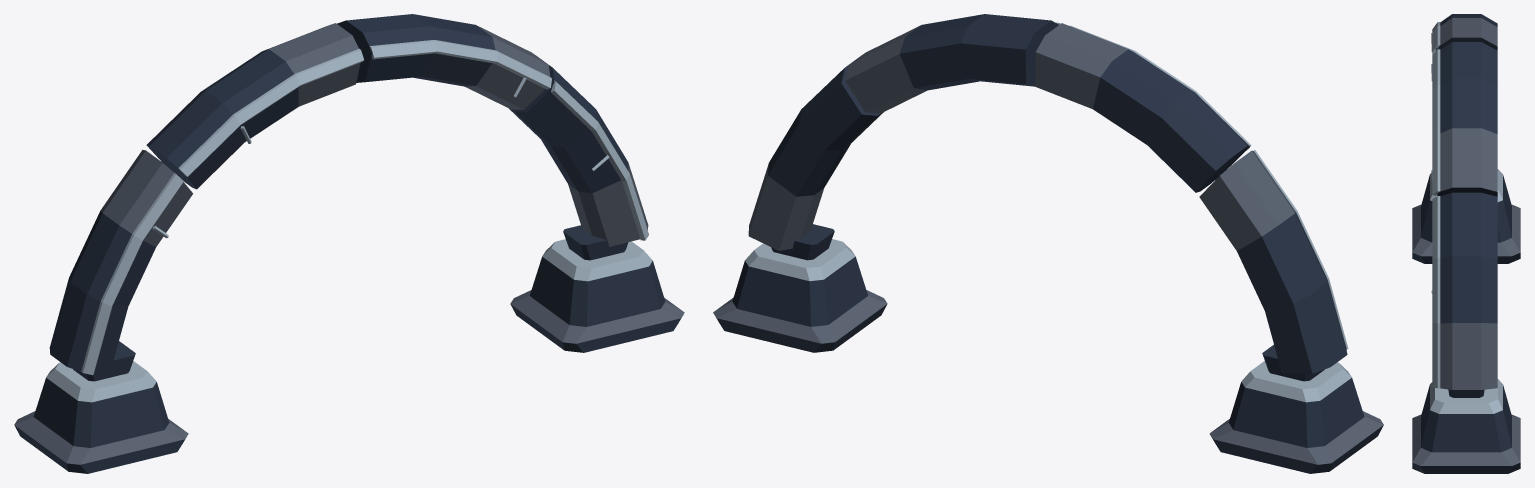
The model's file is dock-gantry.glb.
3 views of the same model, side by side, from view 1: azimuth 30°, elevation 25°; view 2: azimuth 150°, elevation 25°; view 3: azimuth 270°, elevation 25° (orthographic). The views are drawn at different scales.
Parts seen in each view (by area): view 1: dock-gantry; view 2: dock-gantry; view 3: dock-gantry.
Boxes of the visible parts, left/top/right/bottom form: dock-gantry: left=14, top=14, right=684, bottom=473; dock-gantry: left=713, top=14, right=1383, bottom=473; dock-gantry: left=1412, top=14, right=1520, bottom=473.
Bounding box in the file's own units: 12.36 × 6.72 × 2.16.
